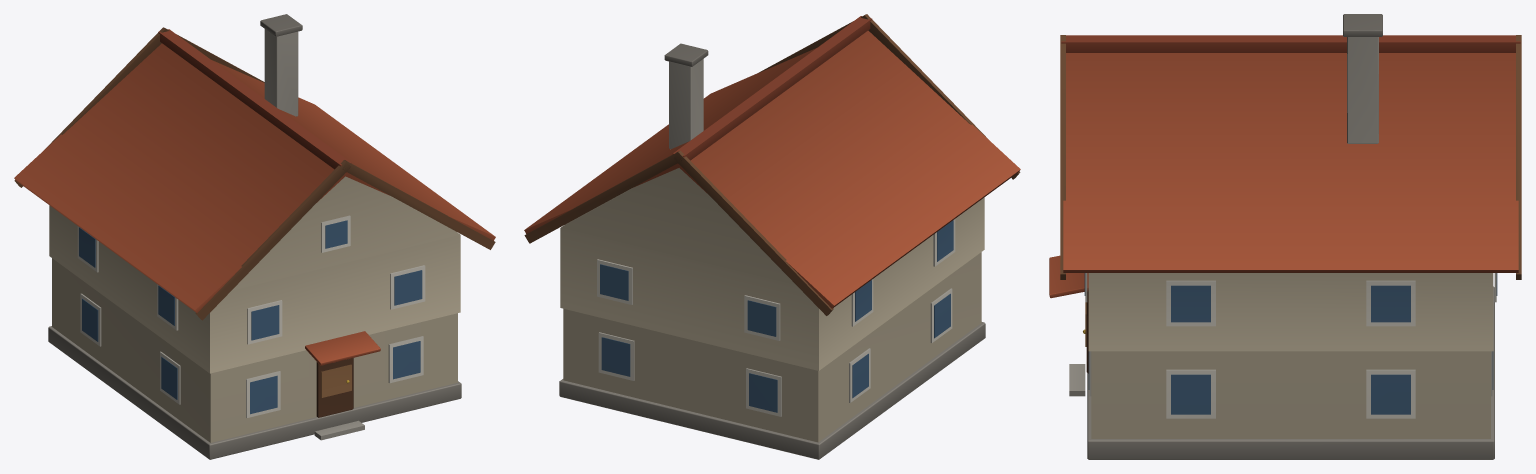
Rendered from prop.farmhouse.lod1.glb.
3 views of the same model, side by side, from view 1: azimuth 30°, elevation 25°; view 2: azimuth 150°, elevation 25°; view 3: azimuth 270°, elevation 25° (orthographic). The views are drawn at different scales.
Visible parts, largest first — view 1: farmhouse; view 2: farmhouse; view 3: farmhouse.
Boxes of the visible parts, x1,y1,x2,y2 form: farmhouse: (14,14,495,459); farmhouse: (524,14,1020,459); farmhouse: (1049,14,1521,459).
Size of the model in its own units: 10.95 by 10.9 by 11.82.
